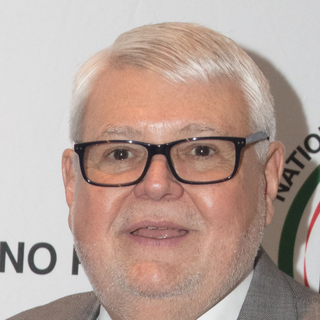eye: (179, 141, 223, 161), (99, 146, 143, 165)
